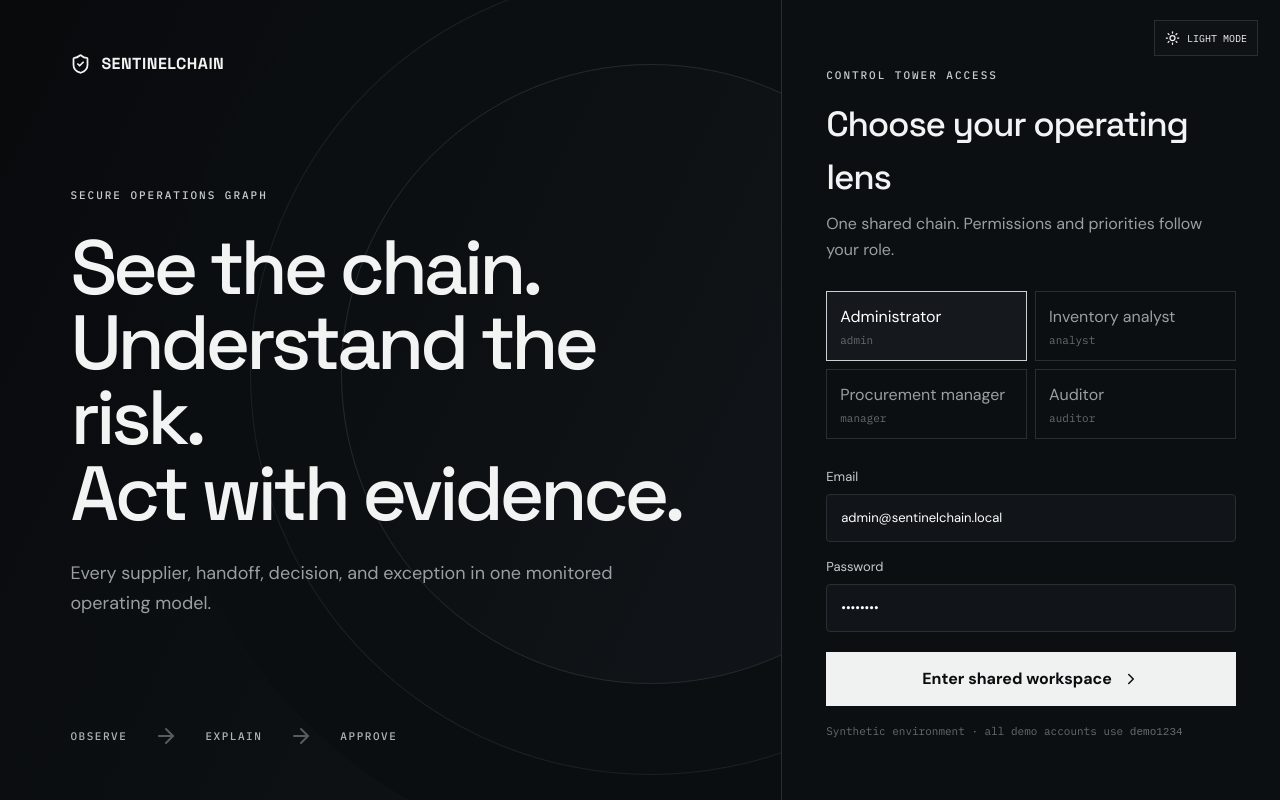
Test: SentinelChain application › shows an authentication error without losing the form
Click the button "Enter shared workspace": x=1031, y=679 [826,652,1236,706]
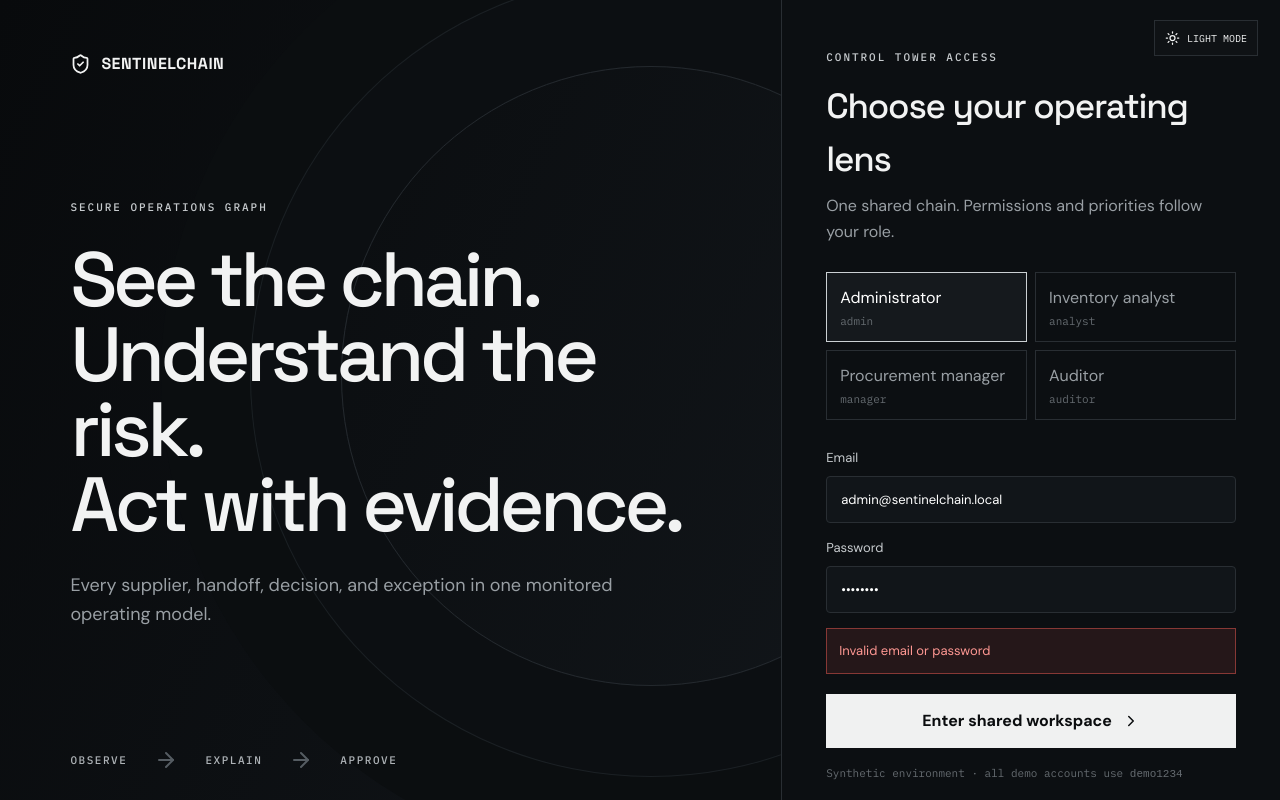
expect the field labelled "Email" holds "admin@sentinelchain.local": met, box [826,476,1236,523]
expect the text "Invalid email or password" is shown: met, box [826,628,1236,674]
